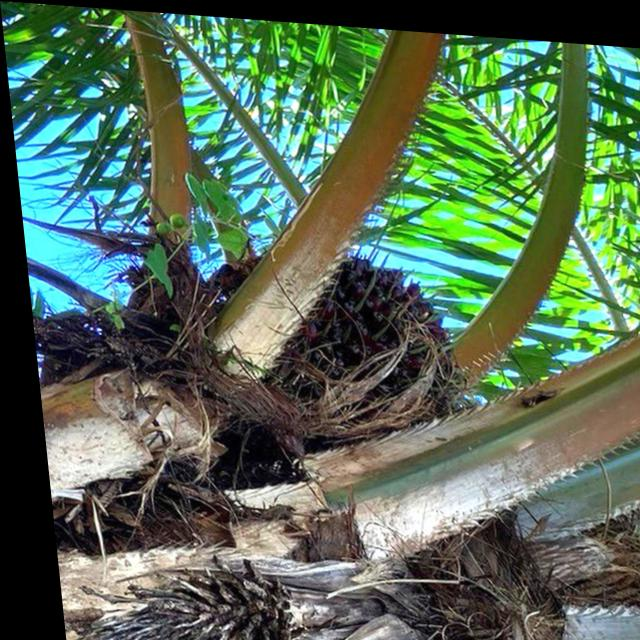ripe: (252, 250, 450, 414)
